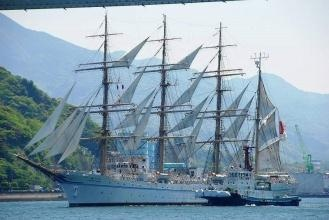fanchuan: (13, 16, 280, 205), (201, 58, 299, 207)
